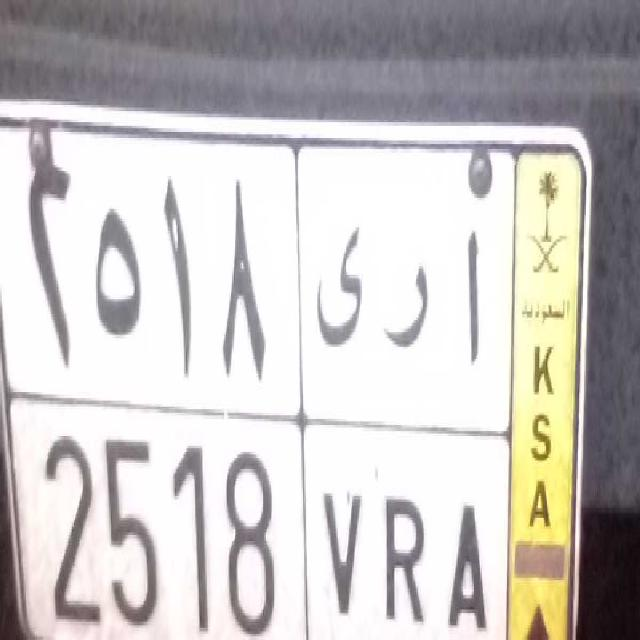license_plate: (11, 389, 511, 640)
